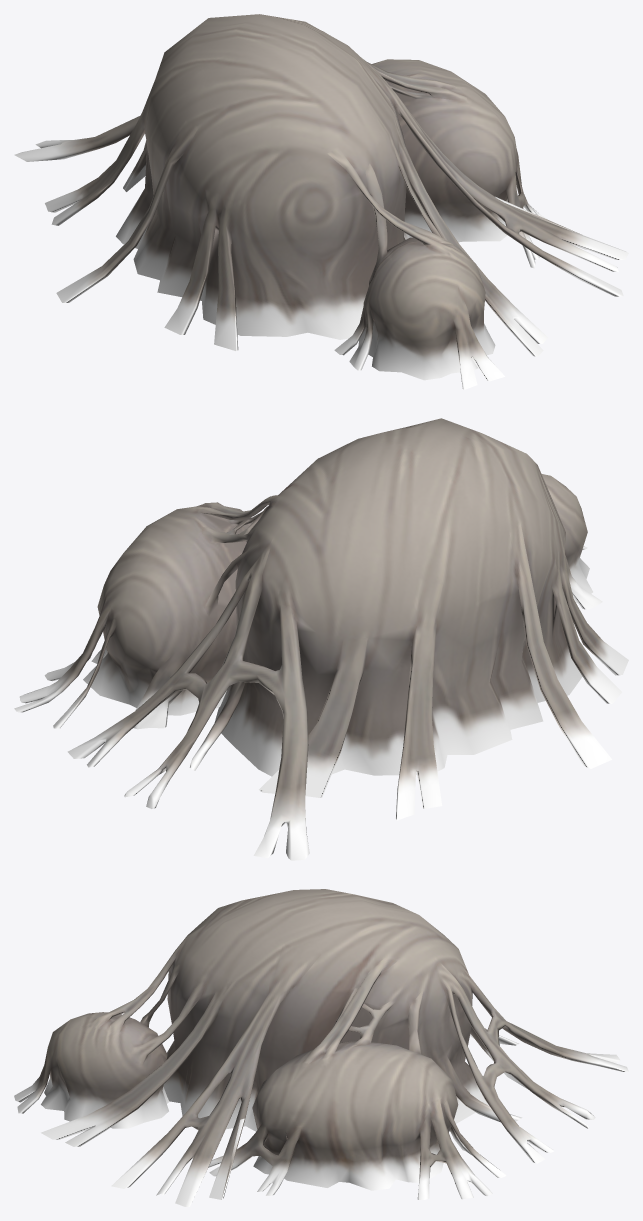
The model's file is spidereggs_a_01.fbx.
The picture shows the model from 3 angles, top to bottom: view 1: azimuth 30°, elevation 25°; view 2: azimuth 150°, elevation 25°; view 3: azimuth 270°, elevation 25°; orthographic projection. The views are drawn at different scales.
Visible parts, largest first — view 1: spidereggs_a_01; view 2: spidereggs_a_01; view 3: spidereggs_a_01.
Part boxes in pixels (x1,y1,x2,y2): spidereggs_a_01: [14, 14, 628, 389]; spidereggs_a_01: [14, 418, 628, 860]; spidereggs_a_01: [14, 889, 628, 1206].
Size of the model in its own units: 1407 by 646 by 1841.
